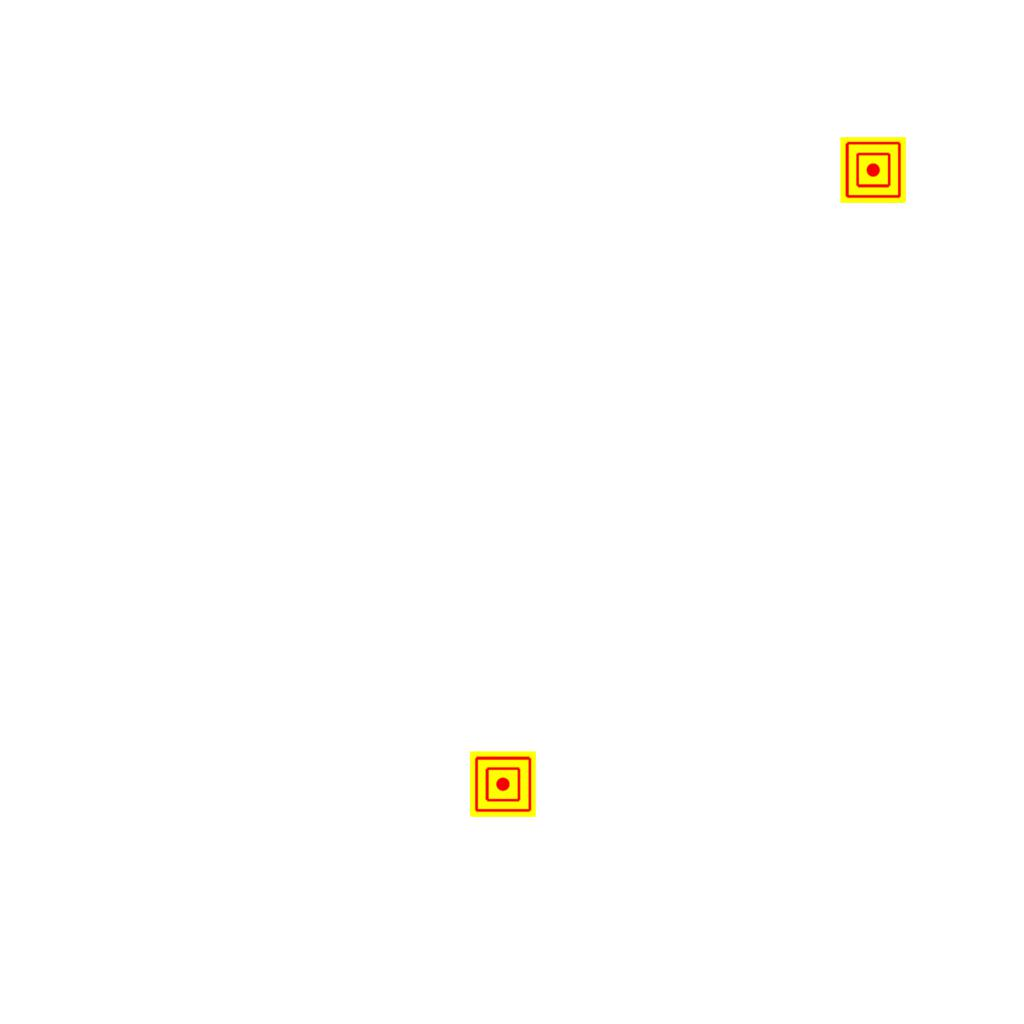NAM-Nichtautomatischer_Melder: (470, 751, 536, 817), (840, 137, 906, 203)
